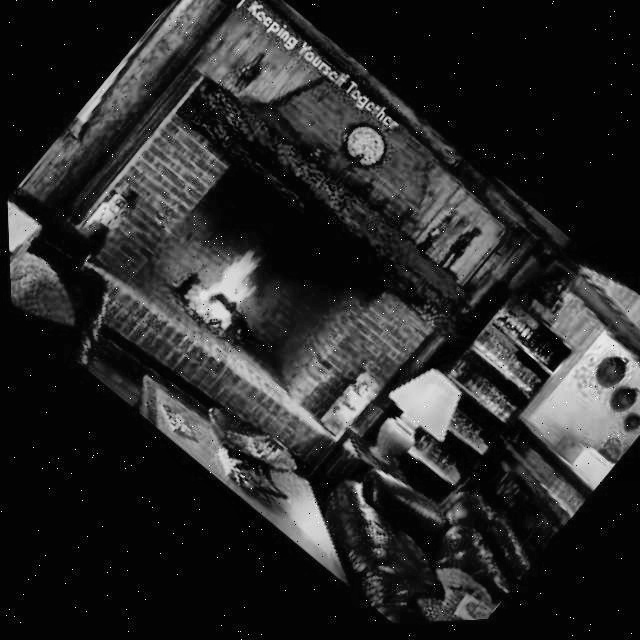Fire: (179, 232, 284, 341)
